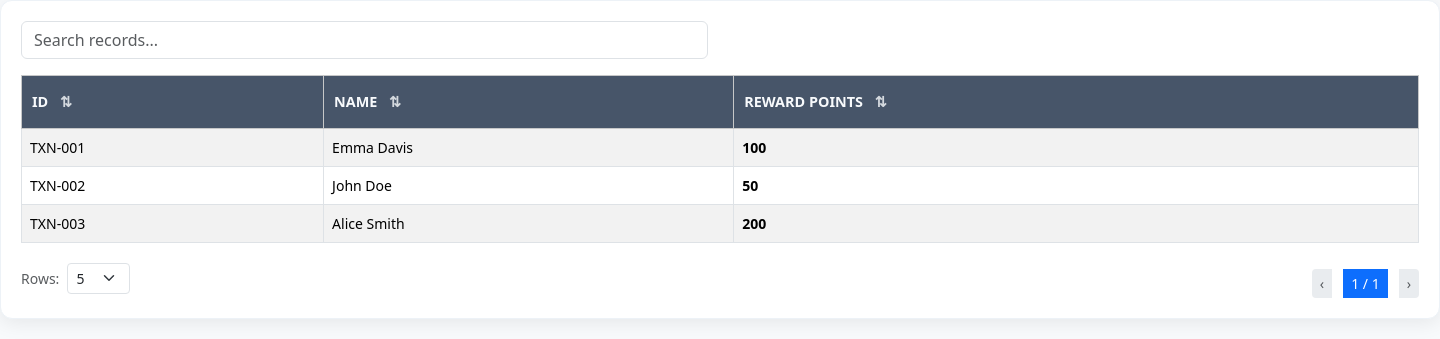
Test case: Table Component › filters rows and resets to page 1
The width and height of the screenshot is (1440, 339).
In the field with placeholder "Search records...": (364, 40) left=21, top=21, right=708, bottom=59, type "Emma"
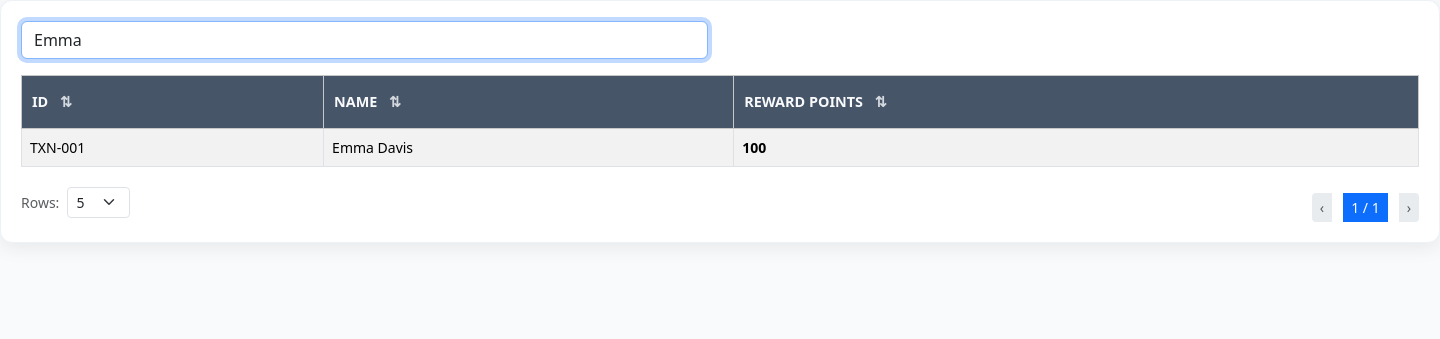
Expected: the text "Emma Davis" is shown, left=324, top=128, right=734, bottom=166
Expected: the text "John Doe" is gone
